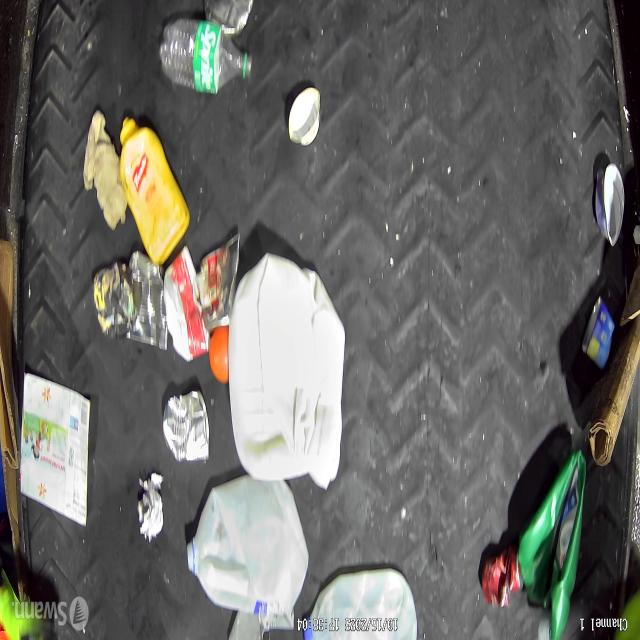can: (166, 392, 213, 473), (199, 236, 239, 329), (129, 257, 168, 351), (592, 156, 623, 251), (482, 545, 522, 605), (584, 301, 620, 366)
milk_jug: (233, 266, 344, 487), (189, 479, 306, 614), (304, 563, 418, 638)
non_white_jug: (514, 442, 586, 640), (120, 119, 184, 268)
plastic_bottle: (162, 23, 256, 98)
